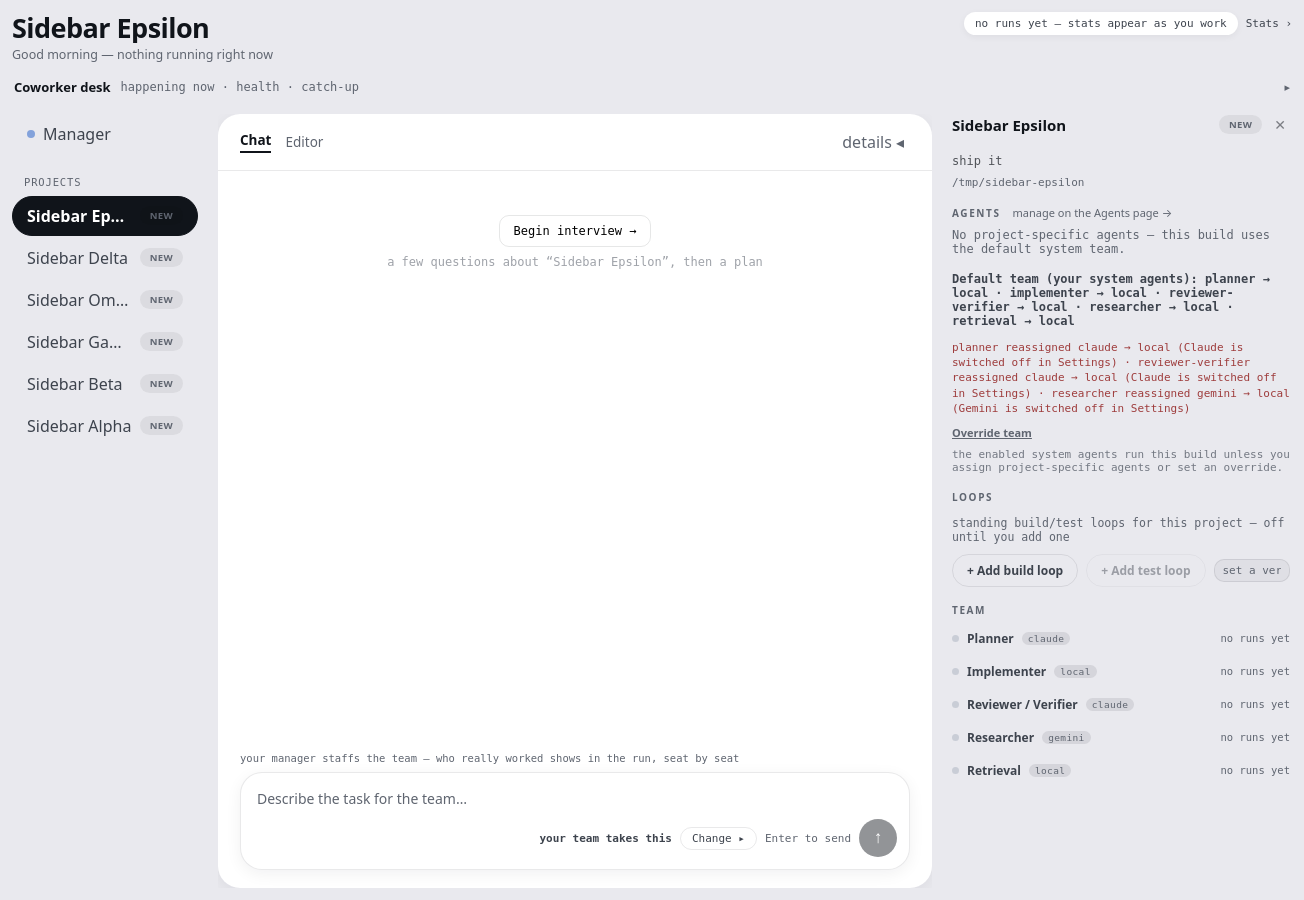
Scenario: Workspace rail: delete a project + heal a dangling active id (P3-3) › deletes the active project from the rail (two-step in-app confirm) and falls back to Manager
The image size is (1304, 900).
Expected: the button "Sidebar Epsilon new" is shown, [12,196,198,236]
# Arm the confirm — one click on ✕ must NOT delete anything (no native dialog).
Click the button named "delete sidebar epsilon". click: (1280, 124)
box: [1270,114,1290,136]
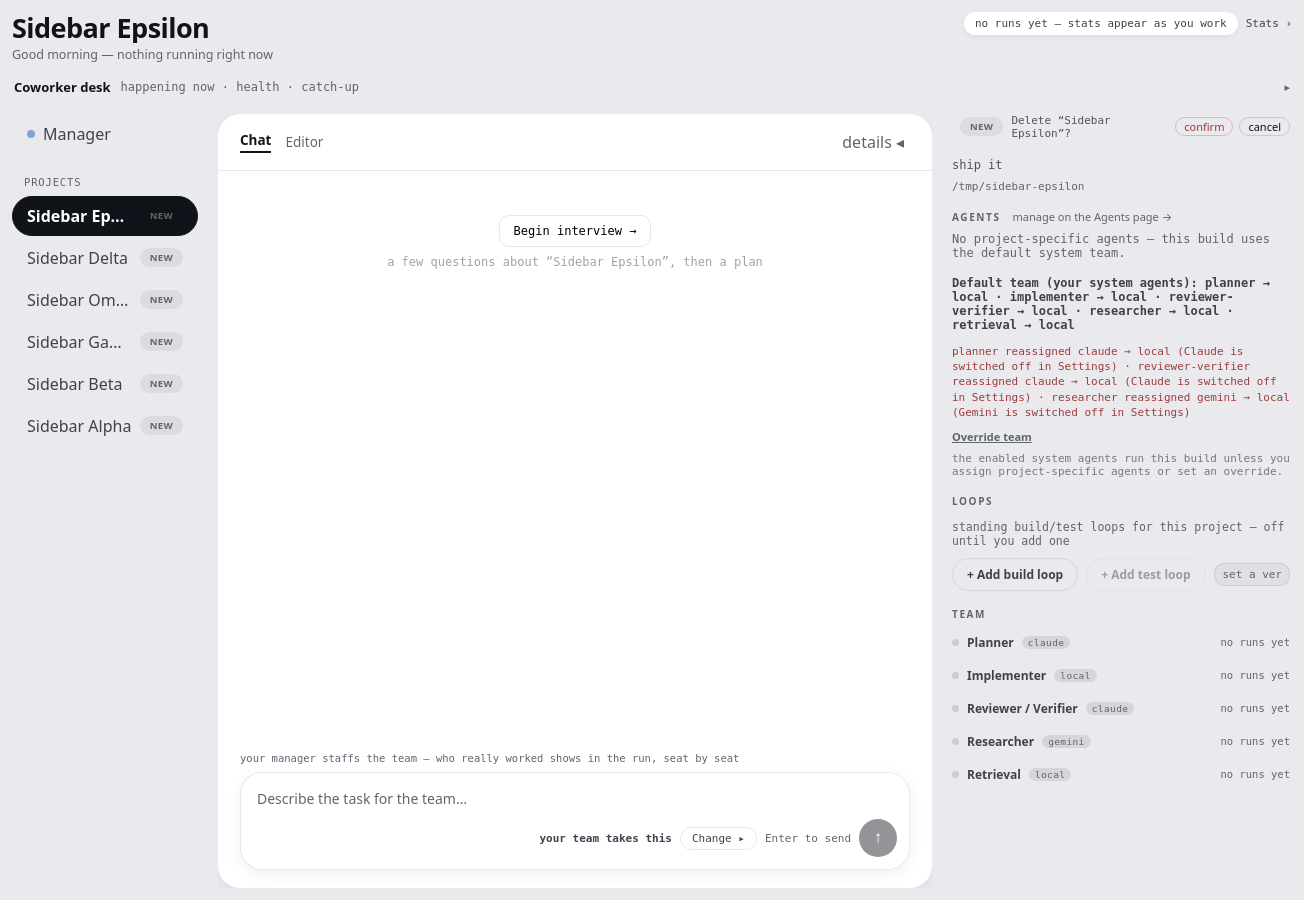
Expected: the button "Sidebar Epsilon new" is shown, [12,196,198,236]
# The explicit confirm performs the durable removal.
Click the button with aria-label "confirm delete sidebar epsilon". click: (1204, 126)
box: [1175,117,1233,136]
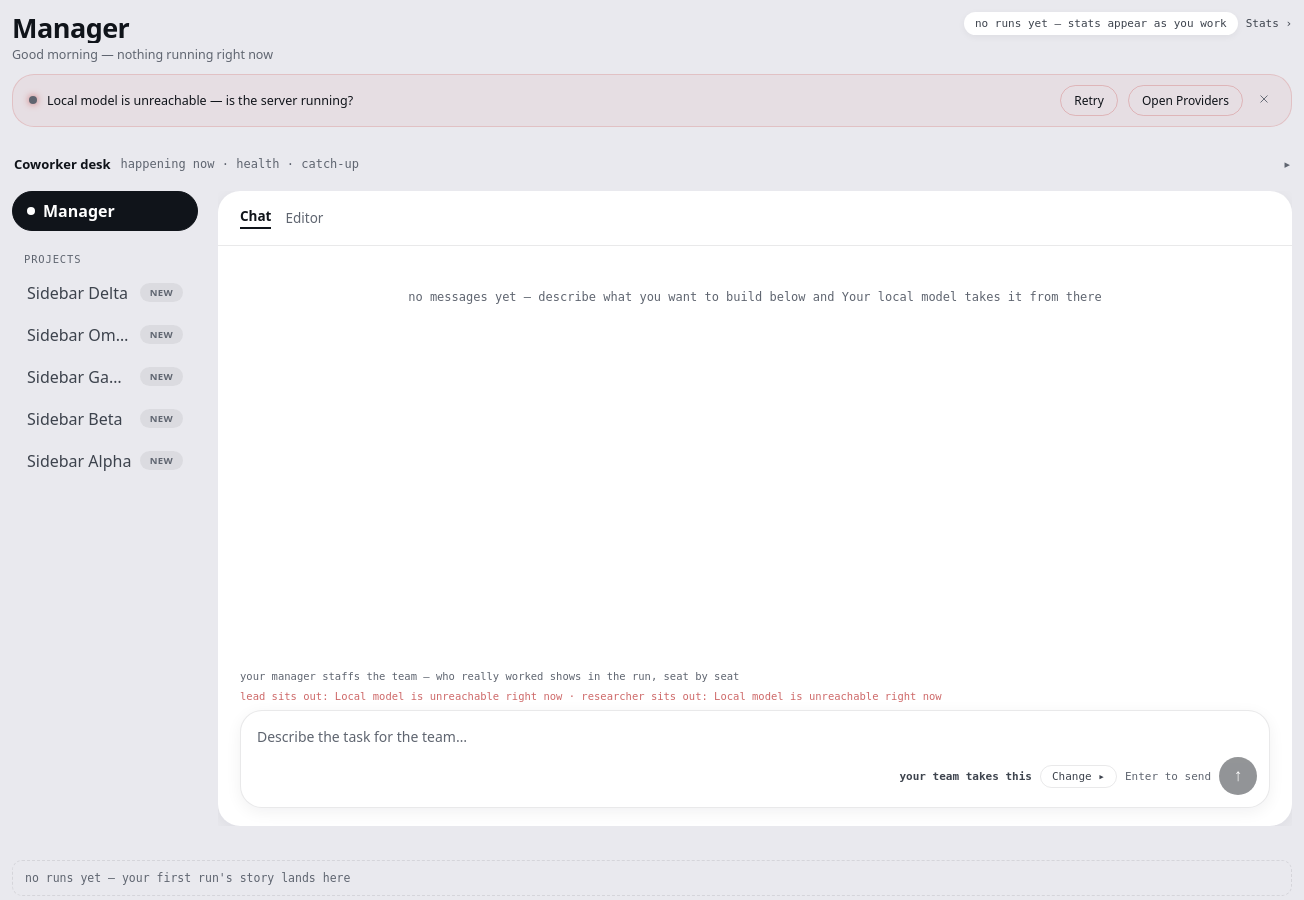
Expected: the heading "Sidebar Epsilon" is gone
